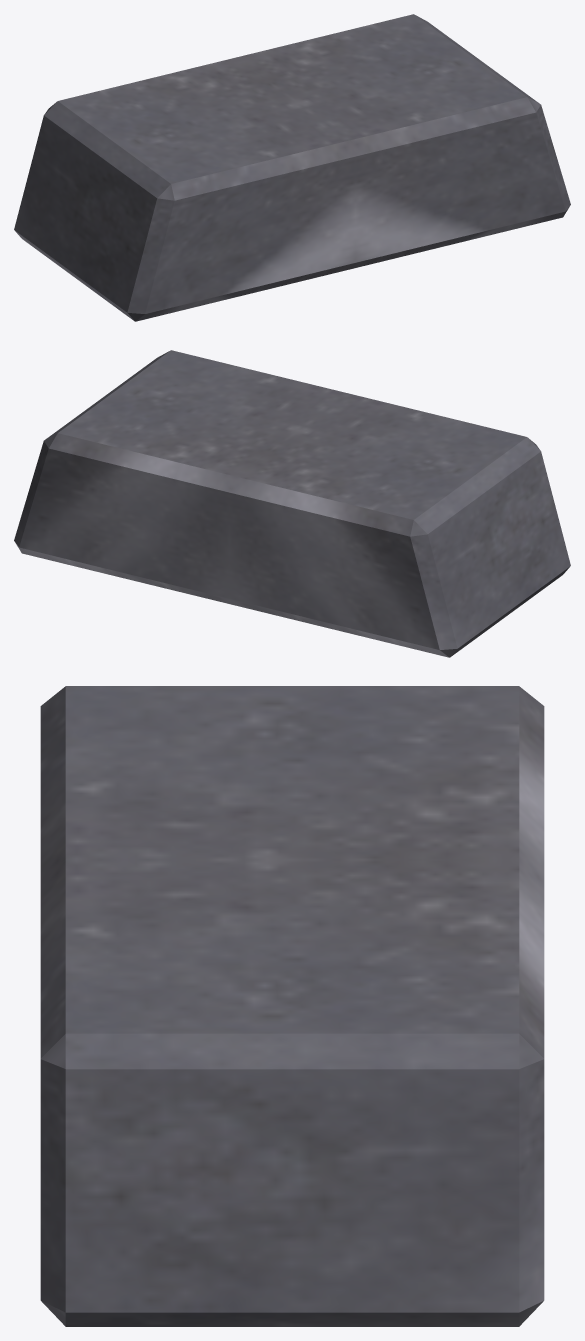
The model's file is Stoneore.fbx.
The picture shows the model from 3 angles, top to bottom: view 1: azimuth 30°, elevation 25°; view 2: azimuth 150°, elevation 25°; view 3: azimuth 270°, elevation 25°; orthographic projection. The views are drawn at different scales.
Parts seen in each view (by area): view 1: MetalIngot.004; view 2: MetalIngot.004; view 3: MetalIngot.004.
Part boxes in pixels (x1,y1,x2,y2): MetalIngot.004: (14,14,570,321); MetalIngot.004: (14,350,570,657); MetalIngot.004: (40,686,544,1326).
Size of the model in its own units: 190 by 52.86 by 93.51.
